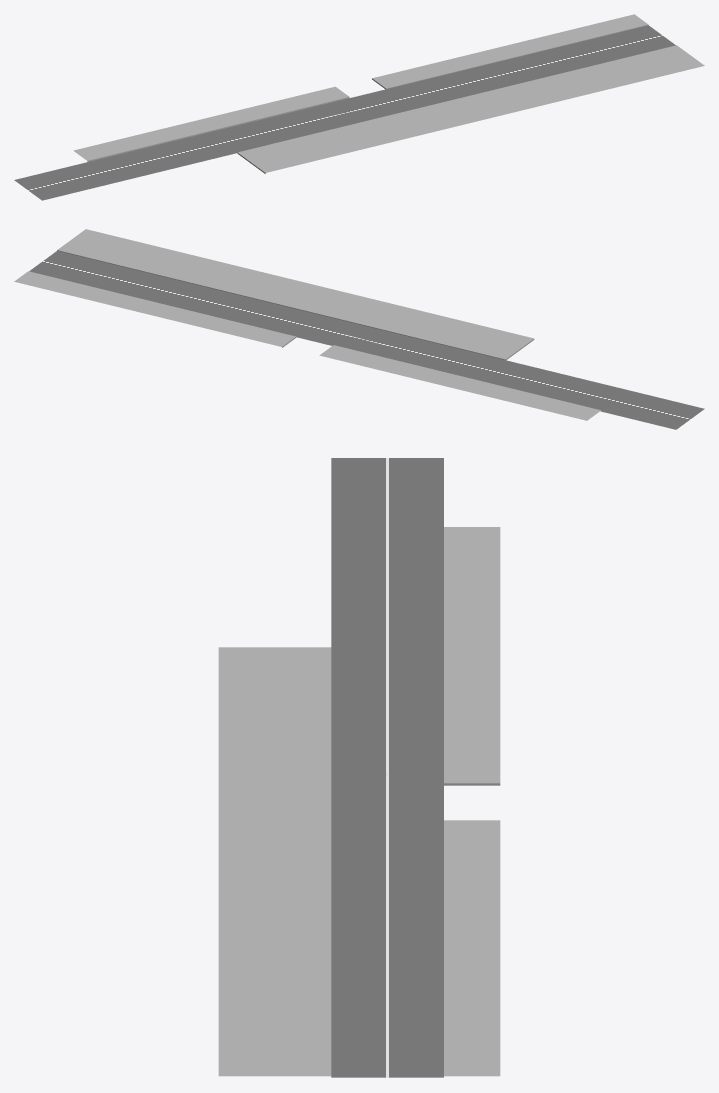
The model's file is road_estepa.glb.
The picture shows the model from 3 angles, top to bottom: view 1: azimuth 30°, elevation 25°; view 2: azimuth 150°, elevation 25°; view 3: azimuth 270°, elevation 25°; orthographic projection. The views are drawn at different scales.
Parts seen in each view (by area): view 1: Sidewalk, Plane; view 2: Sidewalk, Plane; view 3: Sidewalk, Plane.
Part boxes in pixels (x1,y1,x2,y2): Sidewalk: (73, 14, 704, 173); Plane: (14, 25, 675, 200); Sidewalk: (14, 229, 600, 420); Plane: (29, 251, 704, 429); Sidewalk: (218, 527, 500, 1076); Plane: (331, 458, 443, 1077).
Size of what is drawn, in the model's own units: 104 by 0.3 by 20.
2 materials, 1 textured.
